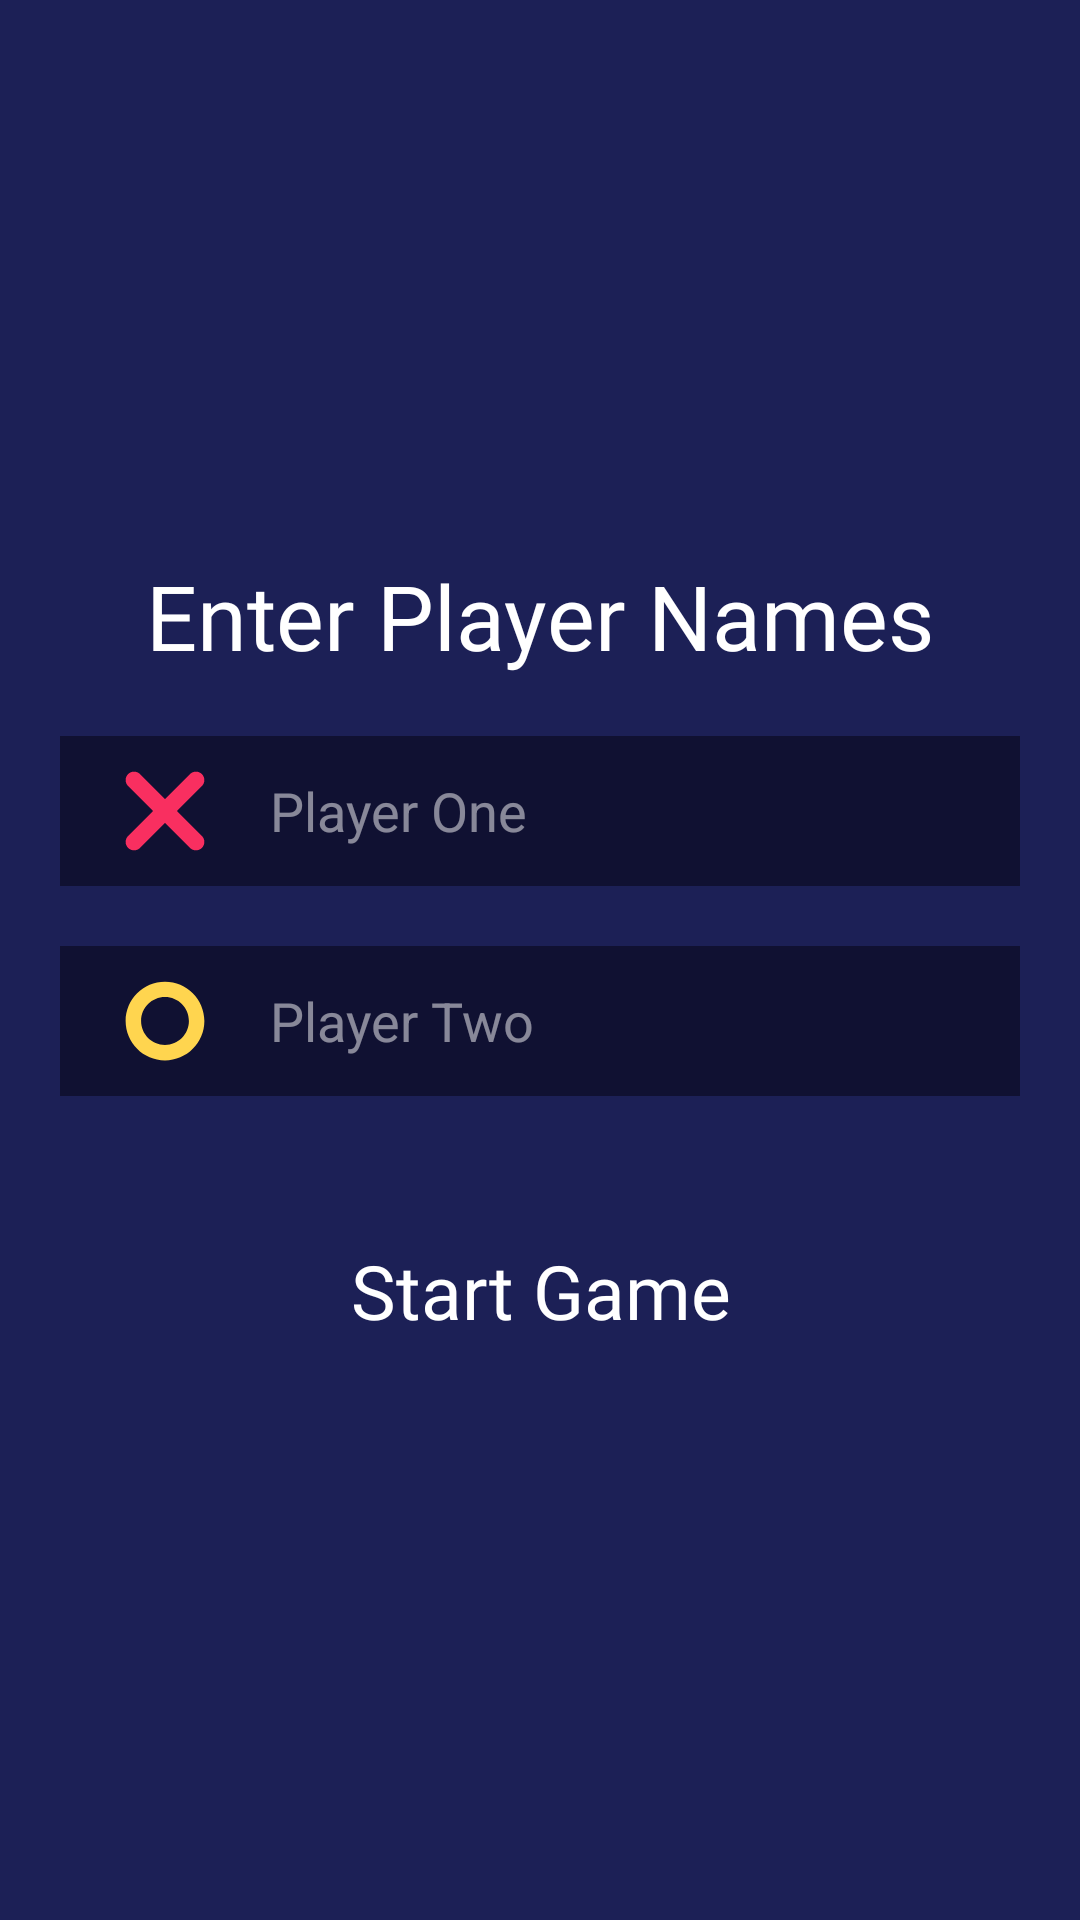

Screen size 1080w x 1920h. Icon name, then its box in pixels as (x1, y1, x2, y2):
cross: (125, 771, 205, 851)
zero: (125, 981, 205, 1061)
